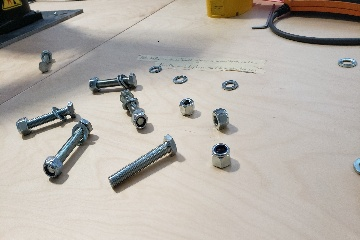Bolt: (105, 131, 179, 197)
FalseAssembly: (40, 128, 96, 181), (14, 98, 76, 136), (39, 49, 53, 75)
FinishedAssembly: (118, 91, 150, 130), (87, 75, 142, 90)
Nut: (206, 141, 235, 171), (210, 107, 232, 134), (177, 96, 198, 119)
Washer: (336, 57, 358, 69), (172, 73, 190, 85), (222, 79, 238, 92), (148, 64, 162, 76)
